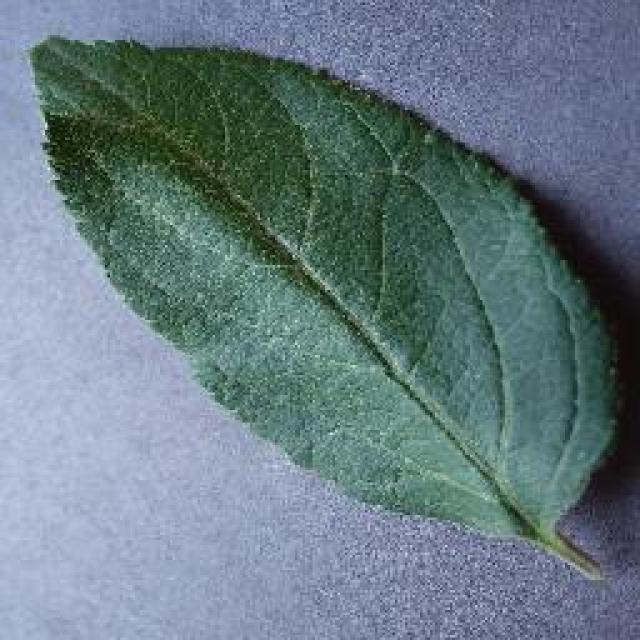apple healthy: (25, 30, 625, 580)
